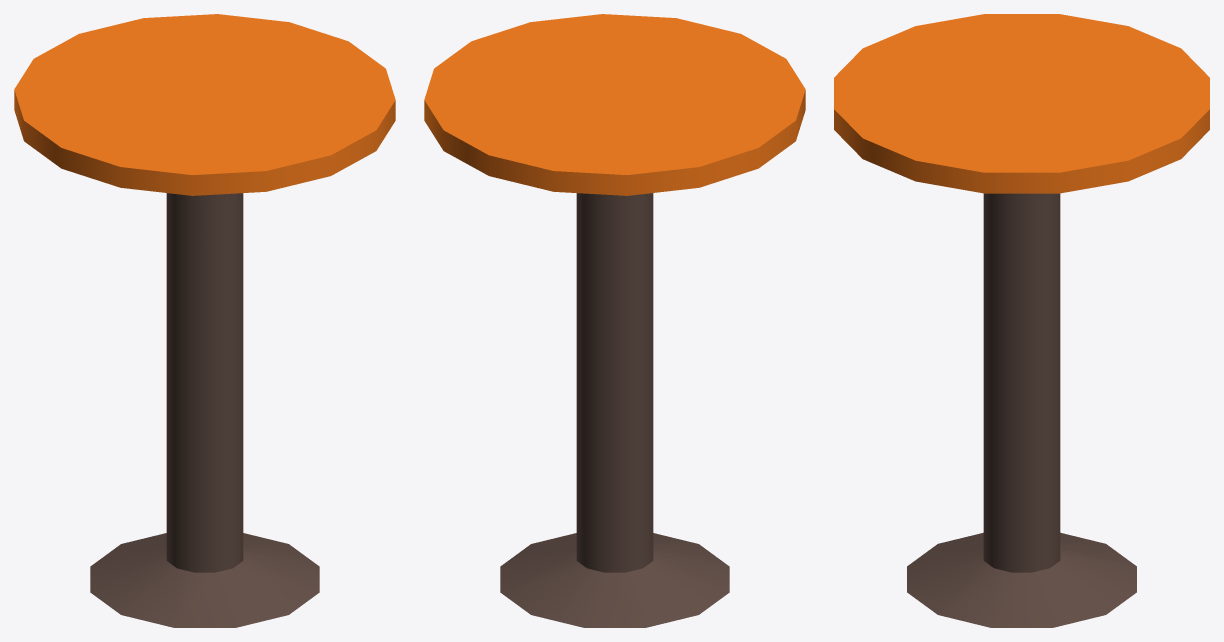
The model's file is table.002.fbx.
3 views of the same model, side by side, from view 1: azimuth 30°, elevation 25°; view 2: azimuth 150°, elevation 25°; view 3: azimuth 270°, elevation 25° (orthographic).
Visible parts, largest first — view 1: table.002; view 2: table.002; view 3: table.002.
Part boxes in pixels (bbox=[...]): table.002: bbox=[14, 14, 395, 627]; table.002: bbox=[424, 14, 805, 627]; table.002: bbox=[834, 14, 1209, 627].
Bounding box in the file's own units: 79.31 × 113 × 79.31.
